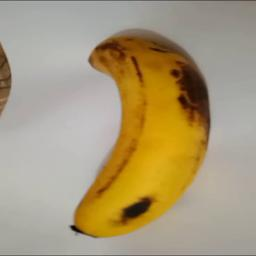Banana Semifresh: (75, 31, 211, 241)
